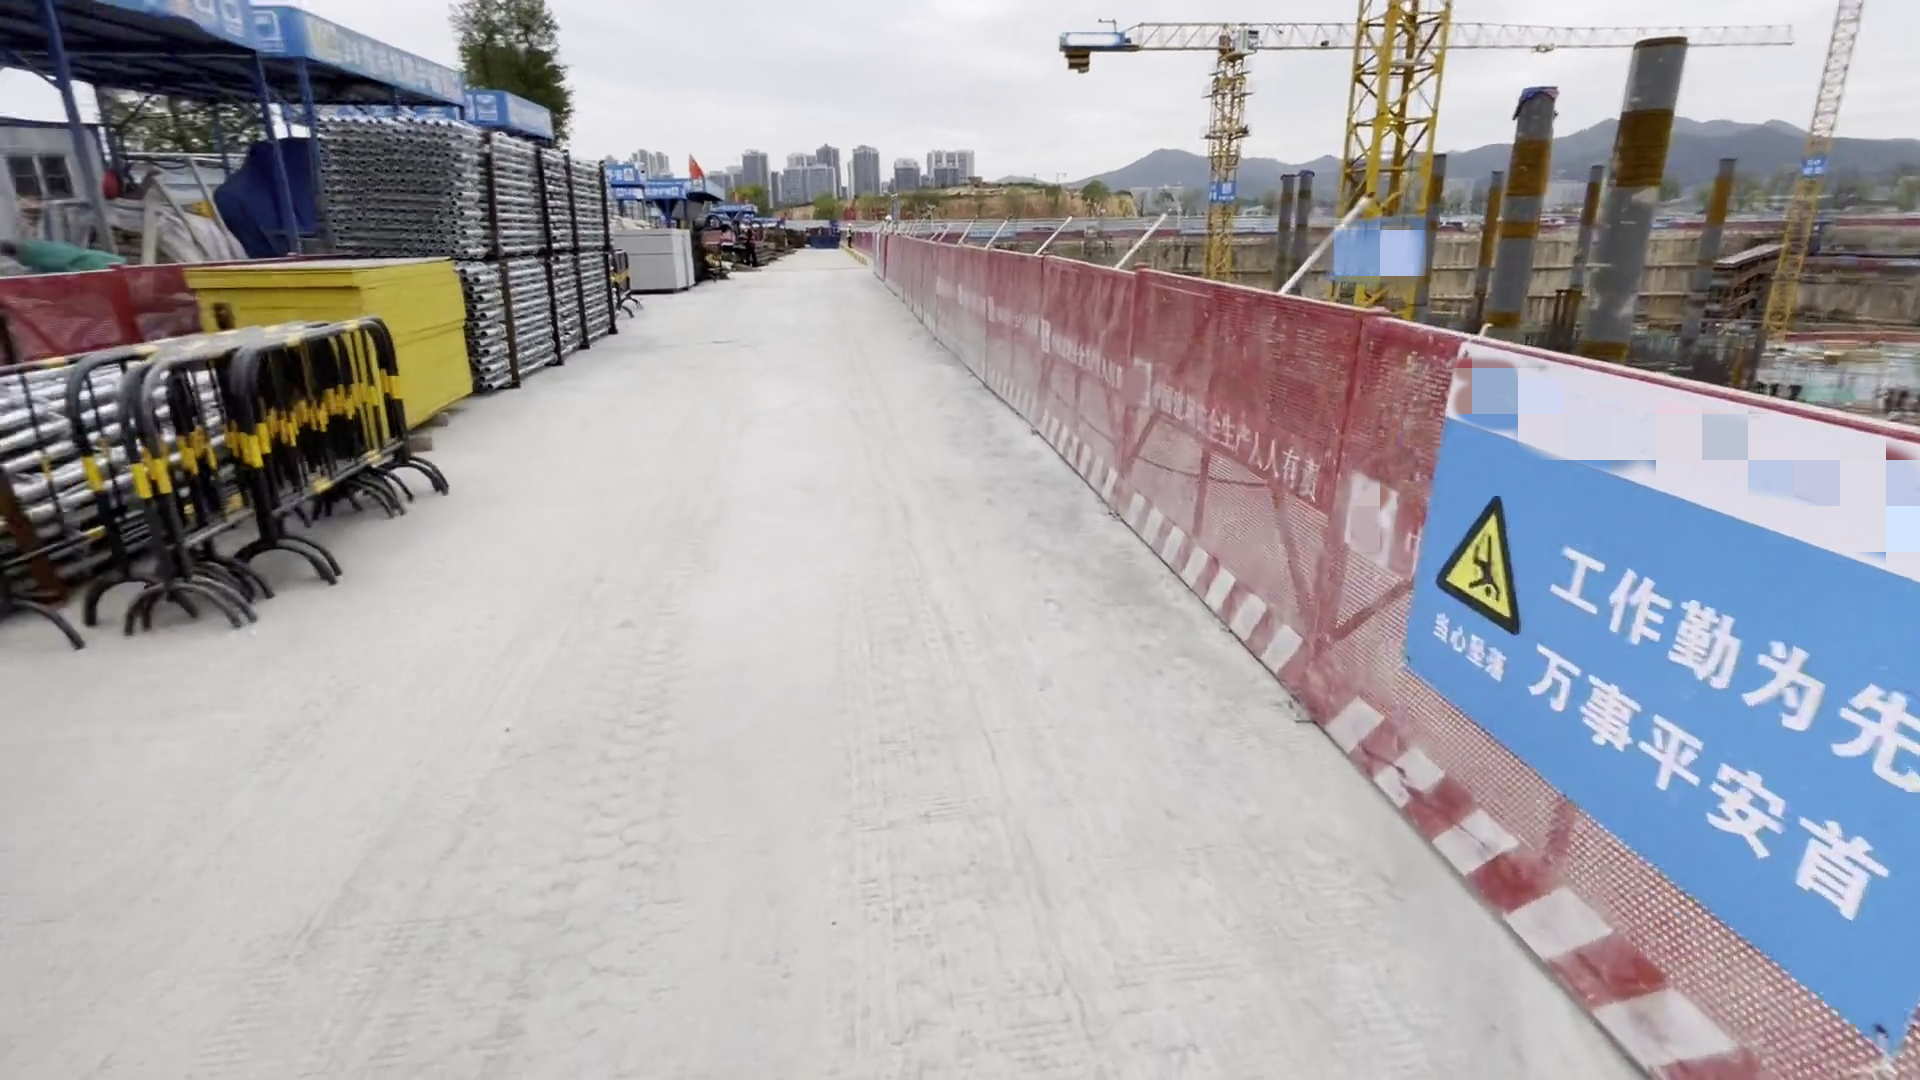board: (229, 255, 462, 446)
brick: (620, 227, 702, 297)
fence: (843, 218, 1435, 742)
scaffold: (1, 334, 251, 576), (298, 102, 629, 274), (460, 253, 620, 381)
slogan: (1395, 481, 1920, 924)
